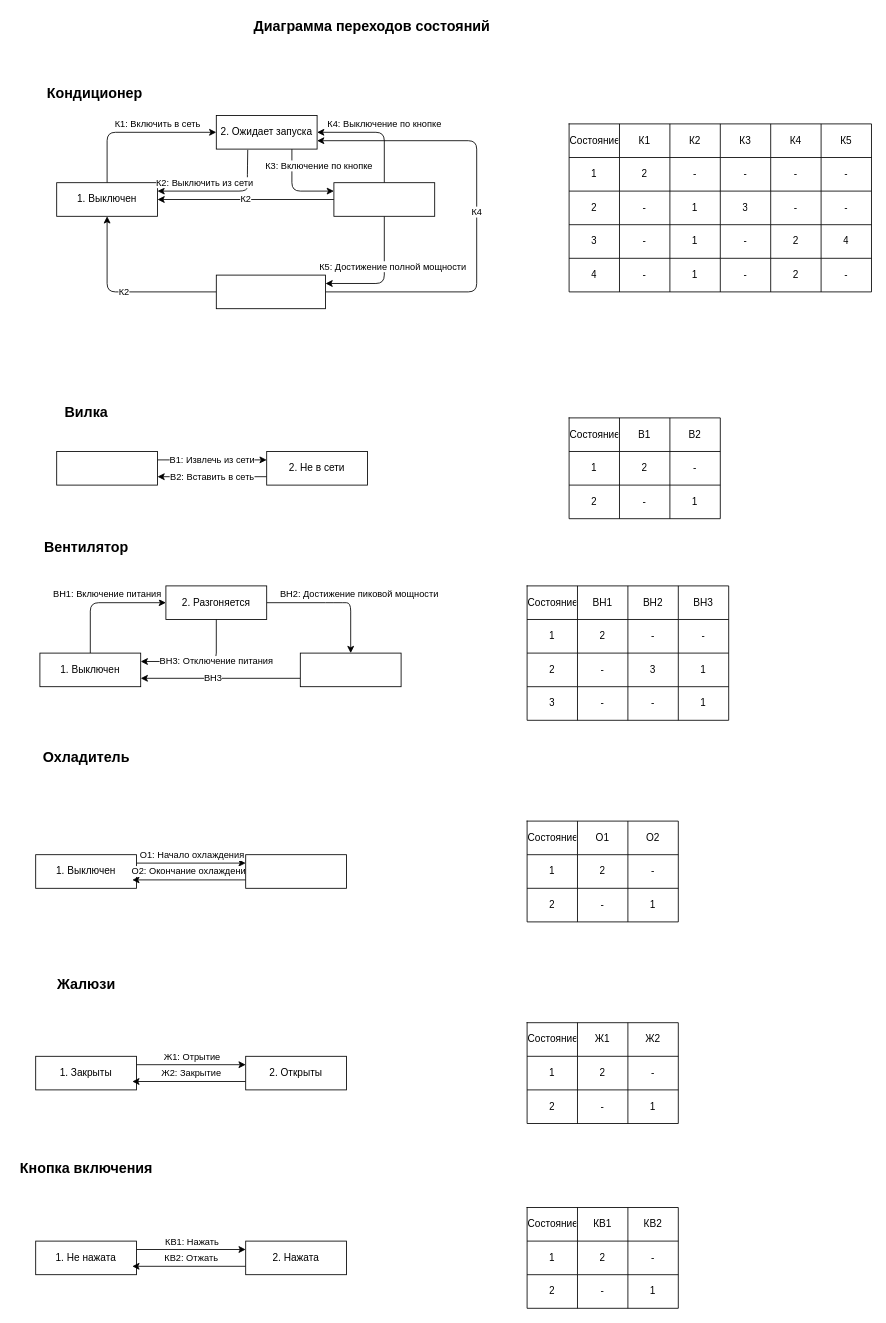
Some shapes in this 886 by 1323 pixel diagram are drawn without their labels. Here are the shapes that lost their labels. From the top down, the centre of each, then its label:
At (384,199): "3. Разгон кондиционера".
At (270,291): "4. Кондиционирование".
At (107,468): "1. В сети".
At (350,669): "3. Работает".
At (295,871): "2. Охлаждает".
